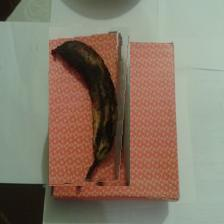Banana Rotten: (50, 28, 131, 187)
